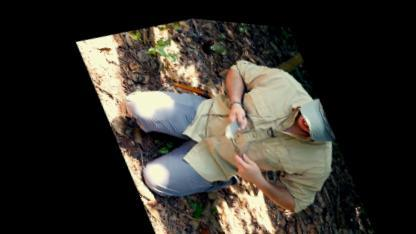knife: (206, 97, 254, 141)
